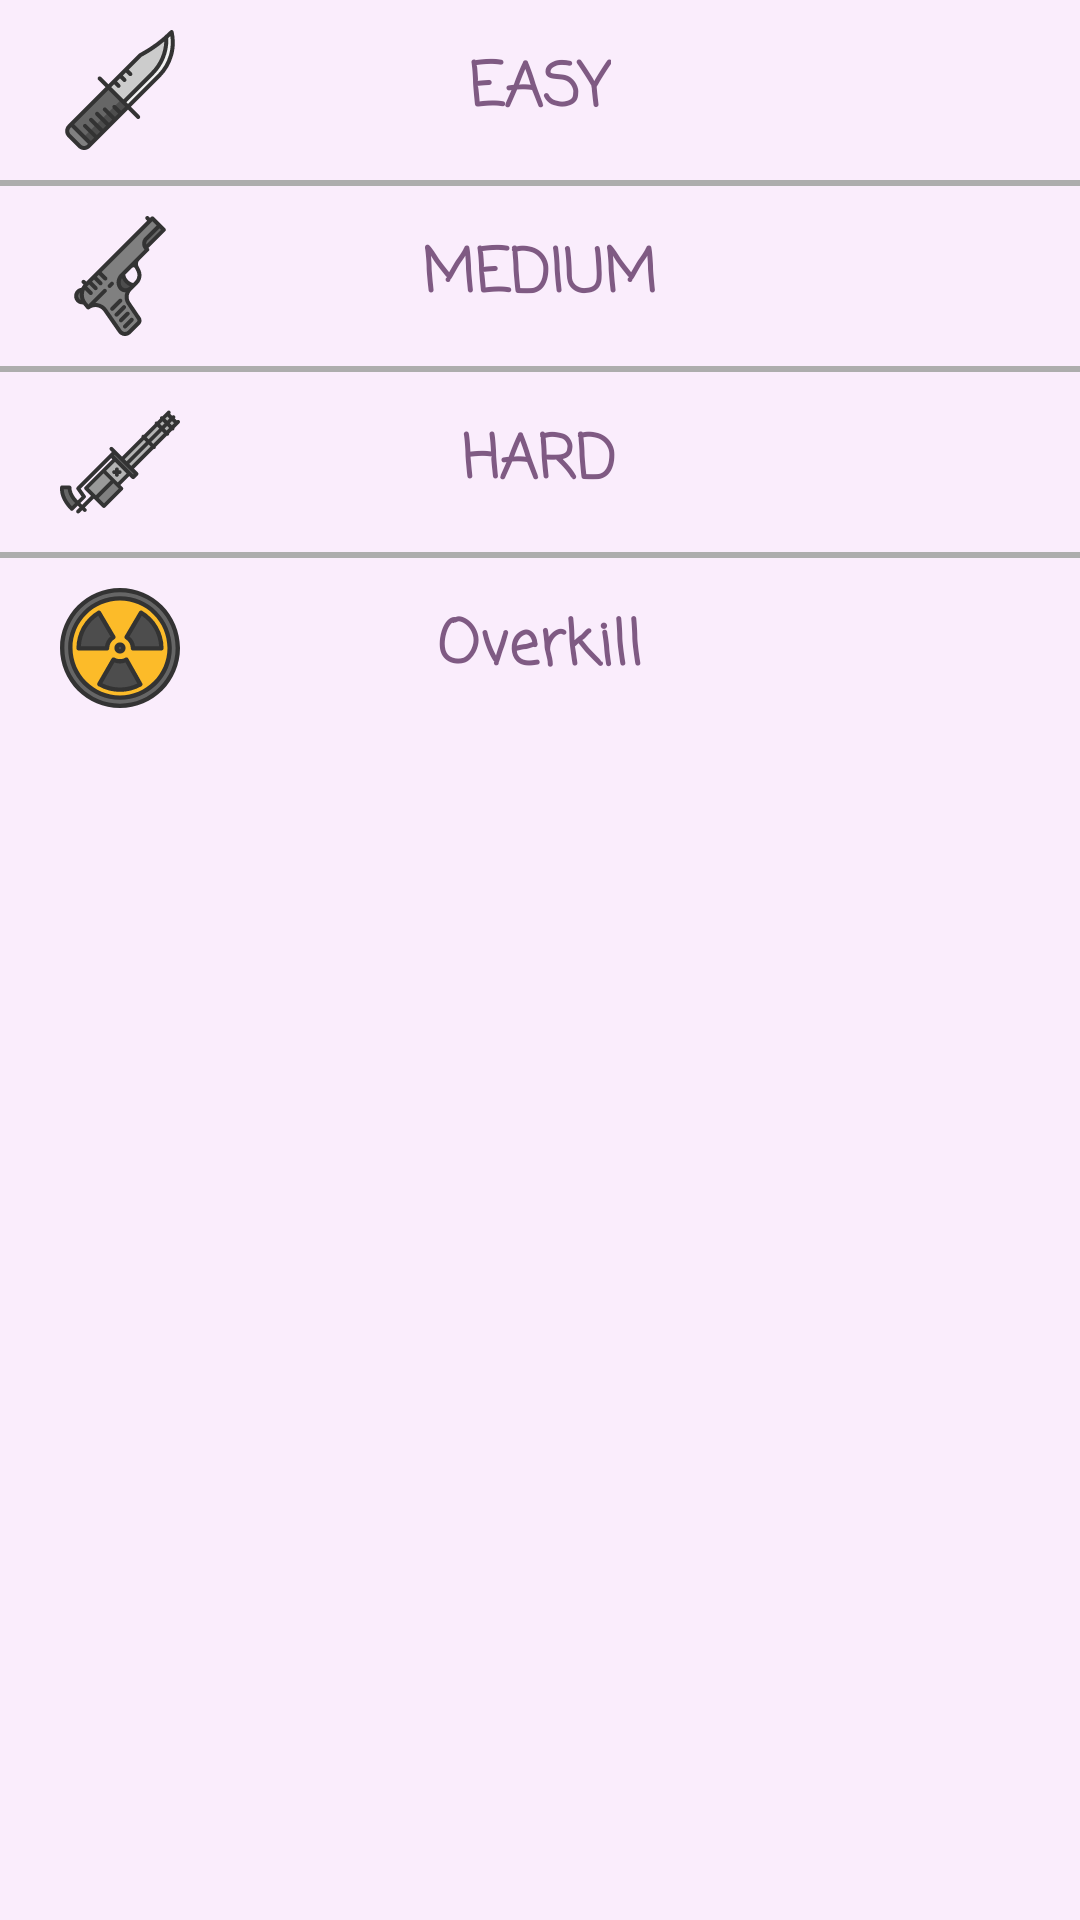

Named icons in this screenshot (1080 x 1920) and their bounding boxes, (x1, y1, x2, y2):
gun: (74, 216, 166, 336)
knife: (65, 30, 175, 150)
machine gun: (60, 410, 180, 514)
radiation: (60, 588, 180, 708)
